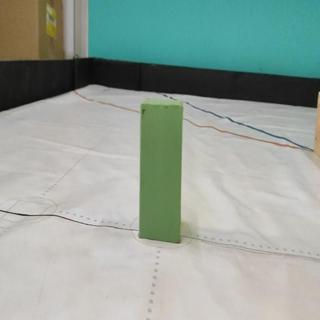greenbox: (140, 99, 183, 244)
